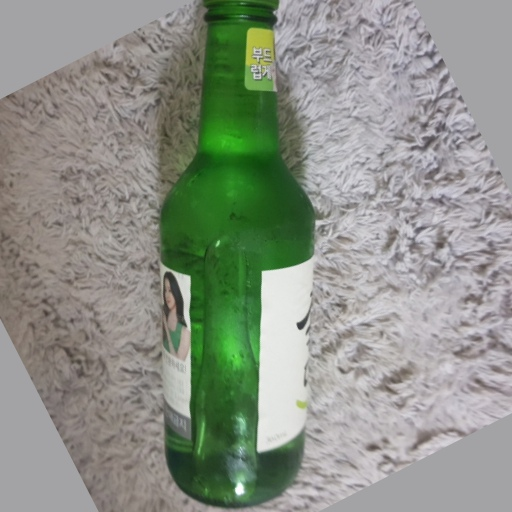Glass_0: (154, 1, 327, 506)
